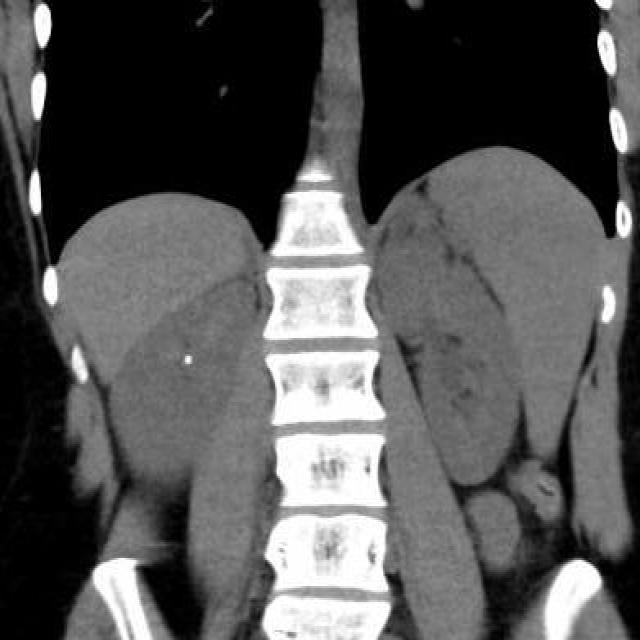Tas_Var: (182, 358, 192, 366), (183, 354, 195, 360)
